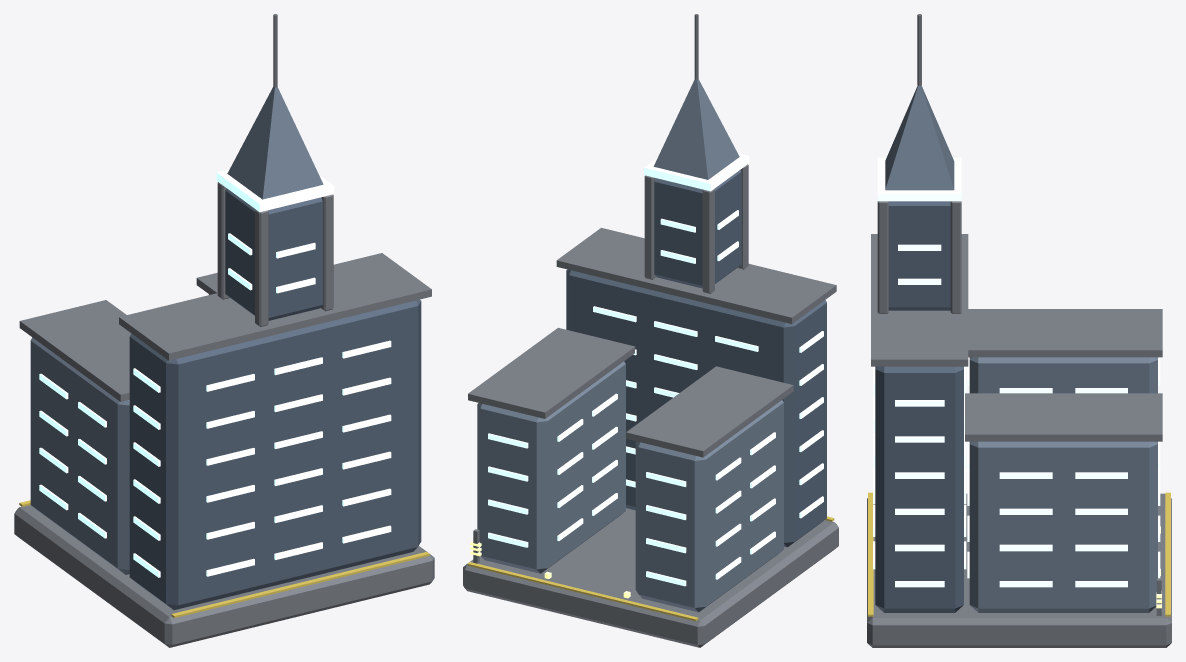
File: zone_high_3_t3.glb
The picture shows the model from 3 angles, left to right: view 1: azimuth 30°, elevation 25°; view 2: azimuth 150°, elevation 25°; view 3: azimuth 270°, elevation 25°; orthographic projection. The views are drawn at different scales.
Visible parts, largest first — view 1: zone_high_3_t3, detail; view 2: zone_high_3_t3, detail; view 3: zone_high_3_t3, detail.
Boxes of the visible parts, x1=… form: zone_high_3_t3: x1=14, y1=87, x2=434, y2=647; detail: x1=19, y1=14, x2=429, y2=618; zone_high_3_t3: x1=463, y1=79, x2=838, y2=647; detail: x1=467, y1=14, x2=834, y2=621; zone_high_3_t3: x1=867, y1=85, x2=1171, y2=647; detail: x1=868, y1=14, x2=1170, y2=616.
Bounding box in the file's own units: 27.5 × 56.81 × 27.5.
